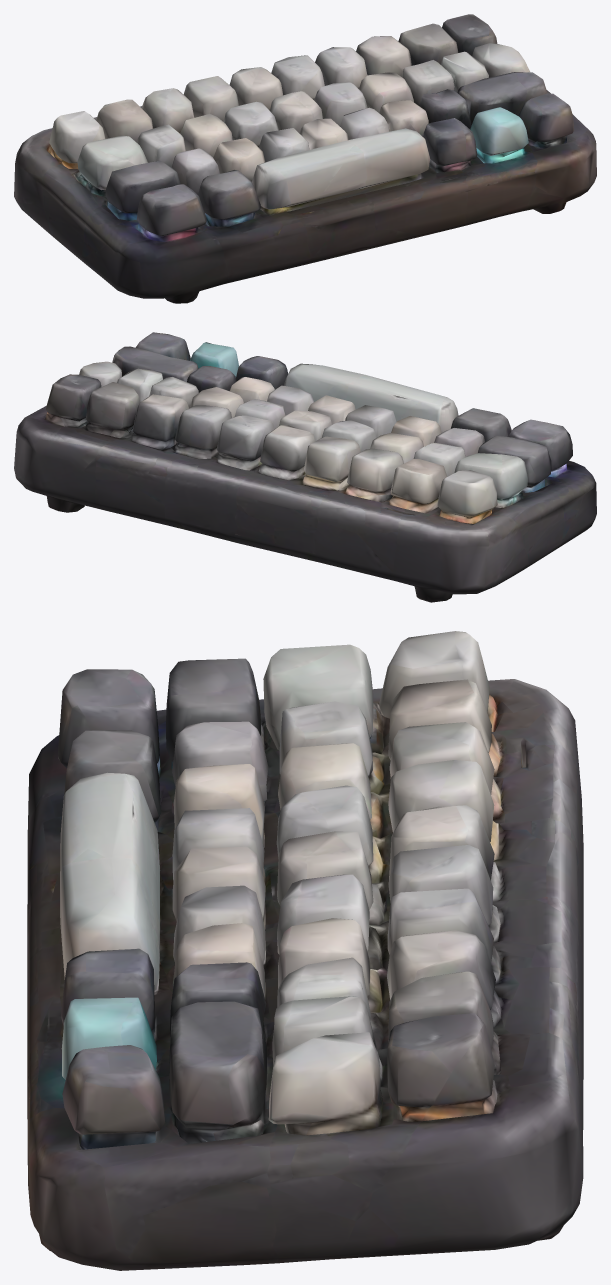
File: keyboard.glb
The picture shows the model from 3 angles, top to bottom: view 1: azimuth 30°, elevation 25°; view 2: azimuth 150°, elevation 25°; view 3: azimuth 270°, elevation 25°; orthographic projection. The views are drawn at different scales.
Parts seen in each view (by area): view 1: tripo_node_8916741a-a294-4ec8-9a71-7b182346acc4; view 2: tripo_node_8916741a-a294-4ec8-9a71-7b182346acc4; view 3: tripo_node_8916741a-a294-4ec8-9a71-7b182346acc4.
Boxes of the visible parts, bbox=[...] form: tripo_node_8916741a-a294-4ec8-9a71-7b182346acc4: bbox=[14, 14, 596, 303]; tripo_node_8916741a-a294-4ec8-9a71-7b182346acc4: bbox=[14, 332, 596, 602]; tripo_node_8916741a-a294-4ec8-9a71-7b182346acc4: bbox=[27, 631, 583, 1270].
Size of the model in its own units: 0.9787 by 0.2265 by 0.4908.
1 material, 1 textured.
